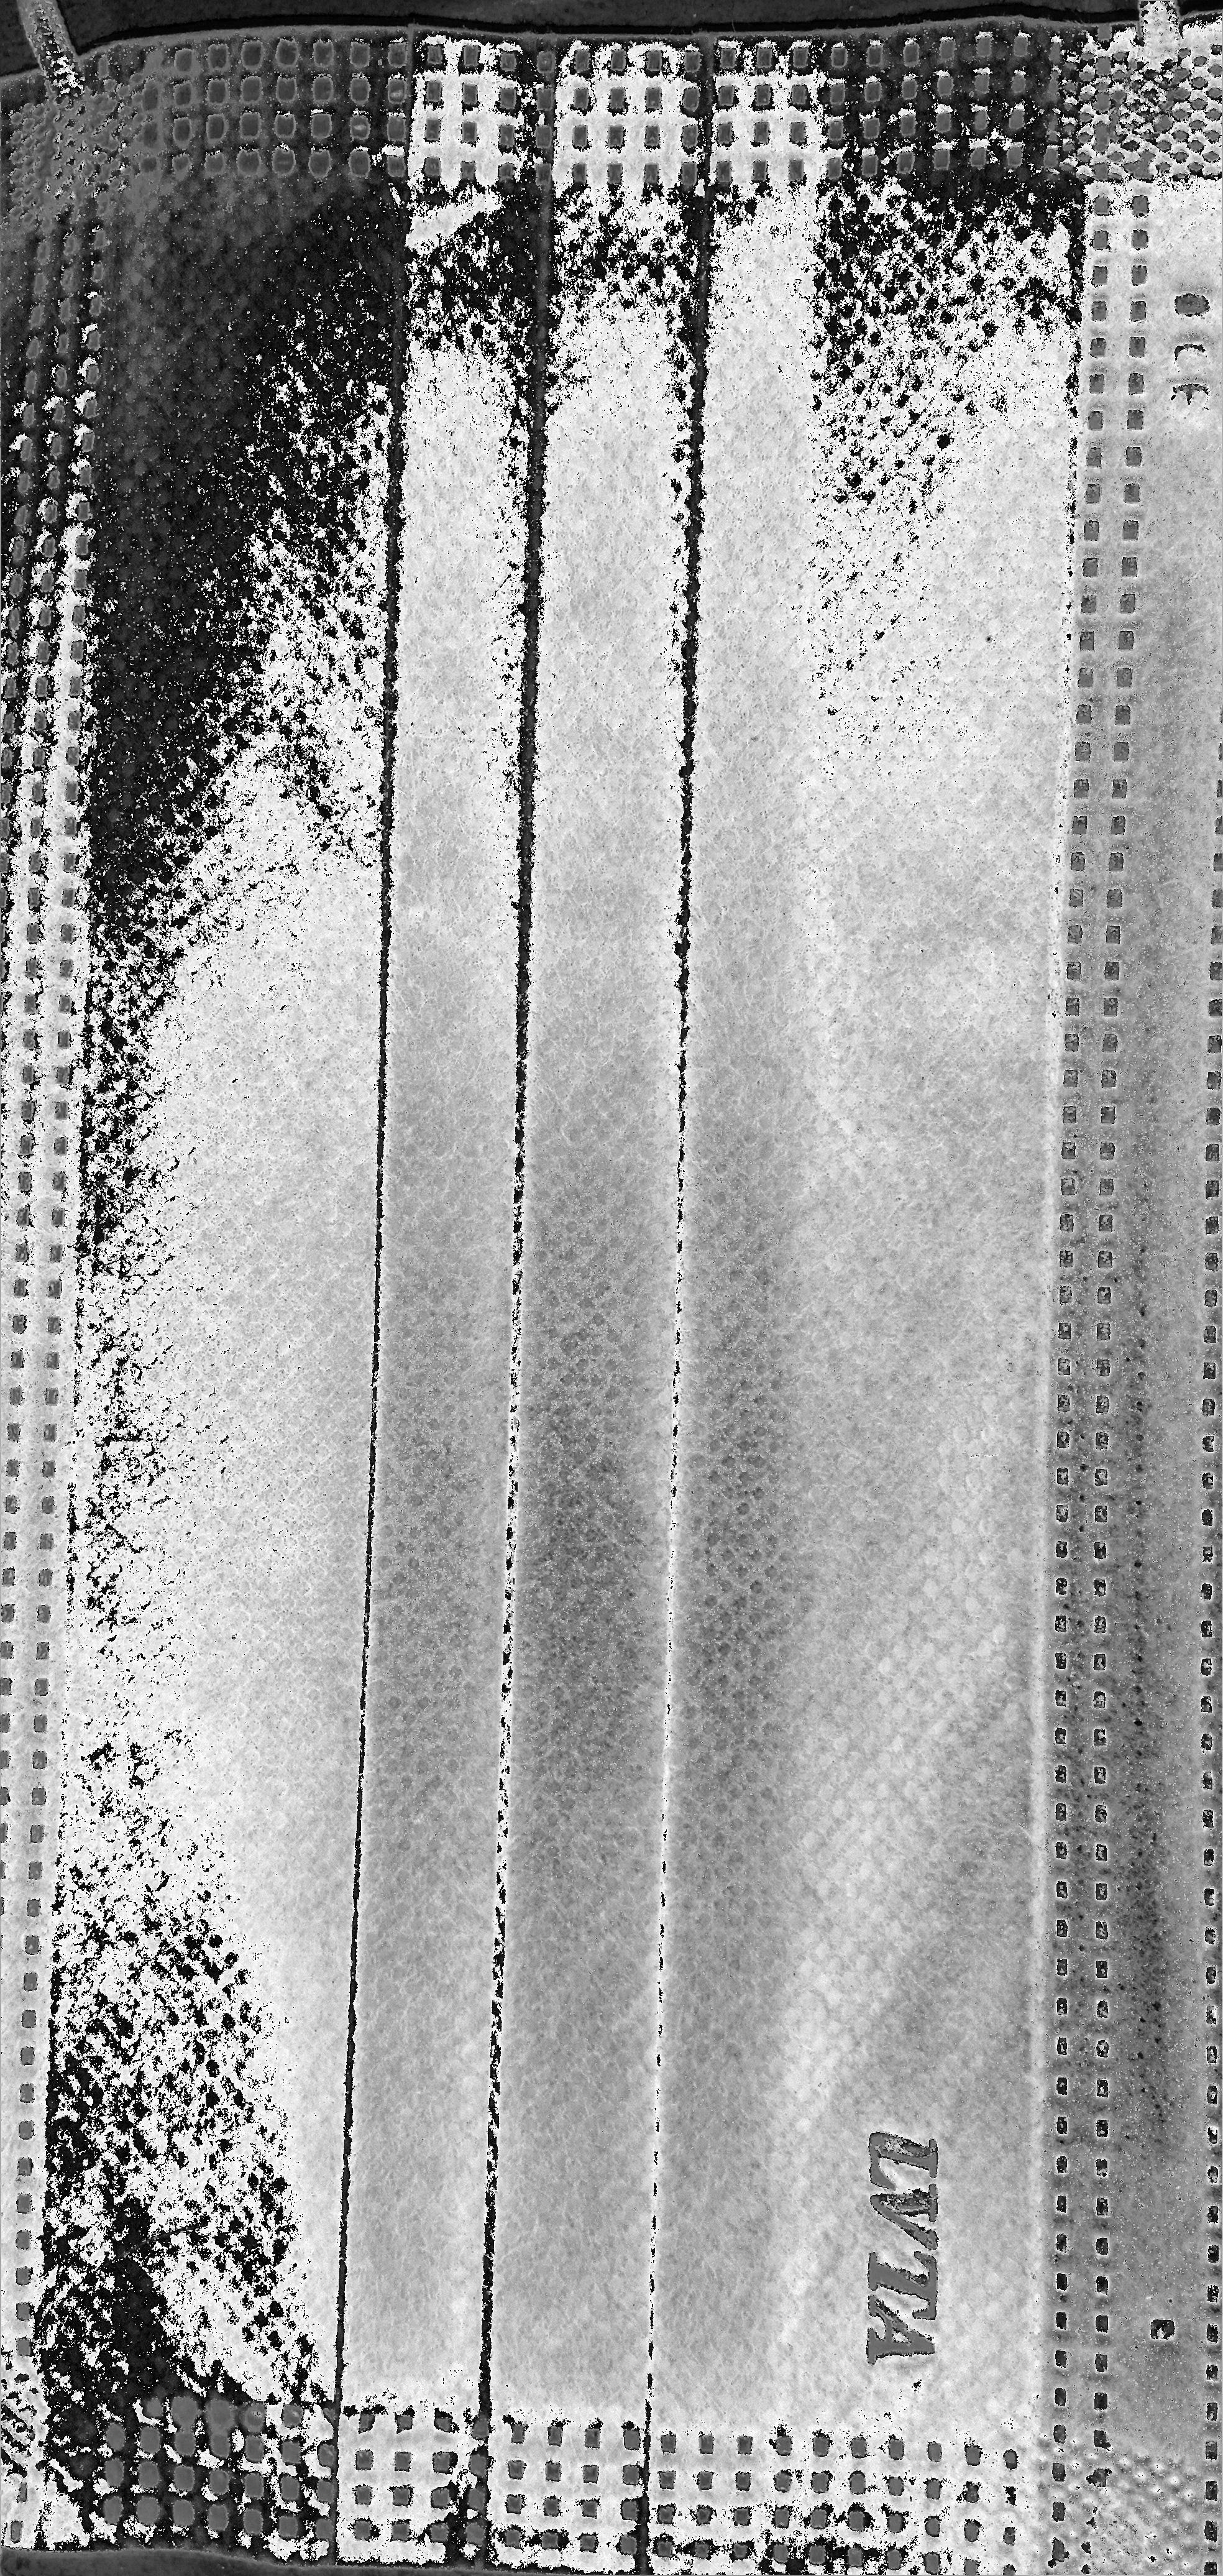High GSM: (84, 204, 1031, 2353)
